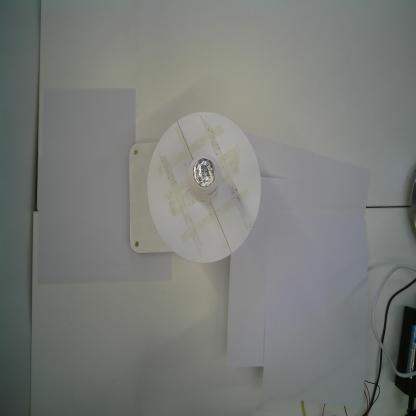Milk: (187, 154, 222, 204)
